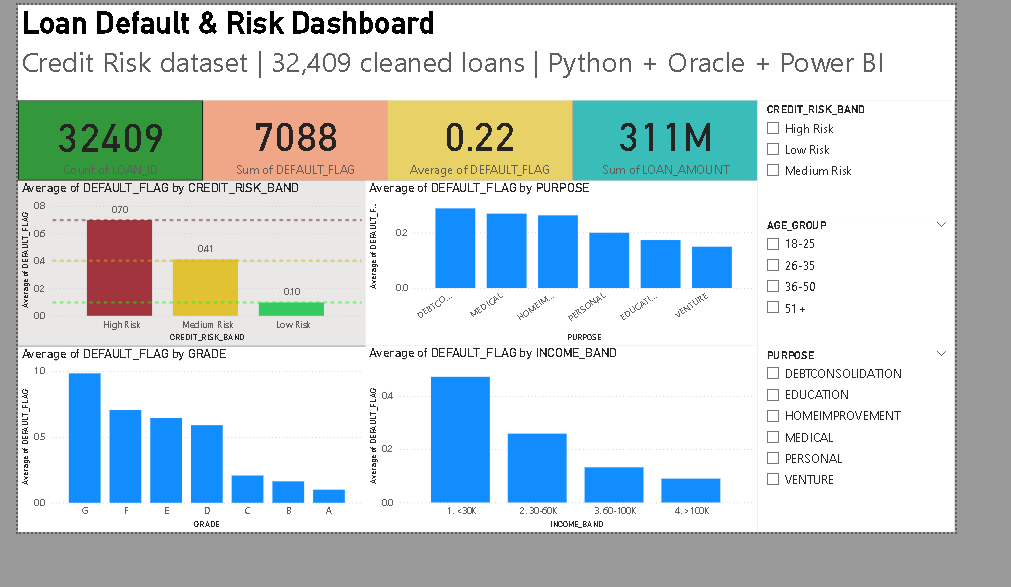

Layout of this report page (visuals, bound fields, positions):
{"tool":"powerbi","page":{"name":"Page 1","canvas":[1280,720],"ordinal":0},"visuals":[{"type":"card","fields":{"Values":["CountNonNull(final_loan_risk_analysis.LOAN_ID)"]},"box":[0,130,252.5,110],"z":0},{"type":"card","fields":{"Values":["Sum(final_loan_risk_analysis.DEFAULT_FLAG)"]},"box":[252.5,130,252.5,110],"z":1000},{"type":"card","fields":{"Values":["Avg(final_loan_risk_analysis.DEFAULT_FLAG)"]},"box":[505,130,252.5,110],"z":2000},{"type":"card","fields":{"Values":["Sum(final_loan_risk_analysis.LOAN_AMOUNT)"]},"box":[757.5,130,252.5,110],"z":3000},{"type":"clusteredColumnChart","fields":{"Category":["final_loan_risk_analysis.GRADE"],"Y":["Avg(final_loan_risk_analysis.DEFAULT_FLAG)"]},"box":[0,466.2,475,253.8],"z":4000},{"type":"clusteredColumnChart","fields":{"Category":["final_loan_risk_analysis.INCOME_BAND"],"Y":["Avg(final_loan_risk_analysis.DEFAULT_FLAG)"]},"box":[475,465,535,255],"z":5000},{"type":"clusteredColumnChart","fields":{"Category":["final_loan_risk_analysis.CREDIT_RISK_BAND"],"Y":["Avg(final_loan_risk_analysis.DEFAULT_FLAG)"]},"box":[0,240,475,225],"z":6000},{"type":"clusteredColumnChart","fields":{"Category":["final_loan_risk_analysis.PURPOSE"],"Y":["Avg(final_loan_risk_analysis.DEFAULT_FLAG)"]},"box":[475,240,535,225],"z":7000},{"type":"slicer","fields":{"Values":["final_loan_risk_analysis.CREDIT_RISK_BAND"]},"box":[1010,130,270,158.8],"z":8000},{"type":"slicer","fields":{"Values":["final_loan_risk_analysis.AGE_GROUP"]},"box":[1010,288.8,270,177.5],"z":9000},{"type":"slicer","fields":{"Values":["final_loan_risk_analysis.PURPOSE"]},"box":[1010,465,270,255],"z":10000},{"type":"textbox","title":"Loan Default  & Risk Dashboard","box":[0,0,1280,130],"z":11000}]}

Visuals, with their boxes on the page's 1280x720 design canvas (x1, y1, x2, y2). These are canvas units, not pixel positions in the 1011x587 screenshot, which may show the page scaled, cropped or inside an application window:
card - CountNonNull(final_loan_risk_analysis.LOAN_ID): [left=0, top=130, right=252, bottom=240]
card - Sum(final_loan_risk_analysis.DEFAULT_FLAG): [left=252, top=130, right=505, bottom=240]
card - Avg(final_loan_risk_analysis.DEFAULT_FLAG): [left=505, top=130, right=758, bottom=240]
card - Sum(final_loan_risk_analysis.LOAN_AMOUNT): [left=758, top=130, right=1010, bottom=240]
clusteredColumnChart - final_loan_risk_analysis.GRADE x Avg(final_loan_risk_analysis.DEFAULT_FLAG): [left=0, top=466, right=475, bottom=720]
clusteredColumnChart - final_loan_risk_analysis.INCOME_BAND x Avg(final_loan_risk_analysis.DEFAULT_FLAG): [left=475, top=465, right=1010, bottom=720]
clusteredColumnChart - final_loan_risk_analysis.CREDIT_RISK_BAND x Avg(final_loan_risk_analysis.DEFAULT_FLAG): [left=0, top=240, right=475, bottom=465]
clusteredColumnChart - final_loan_risk_analysis.PURPOSE x Avg(final_loan_risk_analysis.DEFAULT_FLAG): [left=475, top=240, right=1010, bottom=465]
slicer - final_loan_risk_analysis.CREDIT_RISK_BAND: [left=1010, top=130, right=1280, bottom=289]
slicer - final_loan_risk_analysis.AGE_GROUP: [left=1010, top=289, right=1280, bottom=466]
slicer - final_loan_risk_analysis.PURPOSE: [left=1010, top=465, right=1280, bottom=720]
"Loan Default  & Risk Dashboard" textbox: [left=0, top=0, right=1280, bottom=130]
